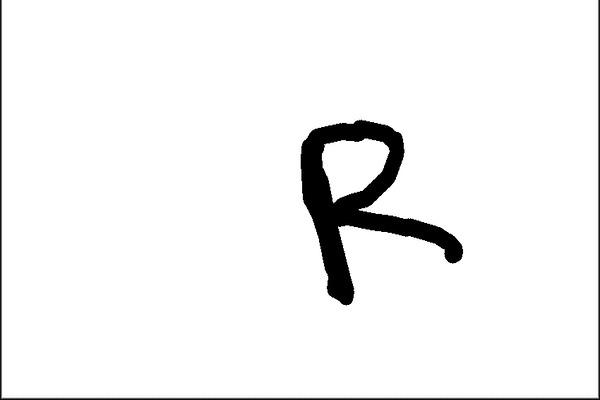R: (279, 110, 468, 311)
